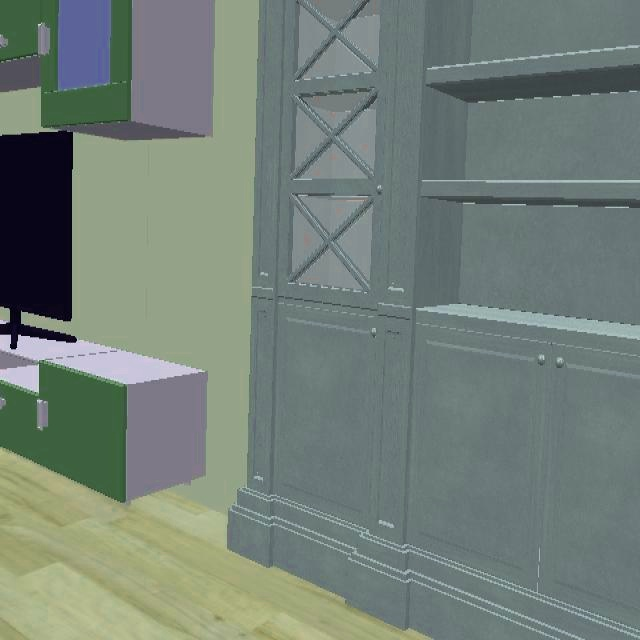bookshelf: (227, 0, 640, 640)
cabinet: (0, 335, 206, 504)
monitor: (0, 131, 74, 323)
